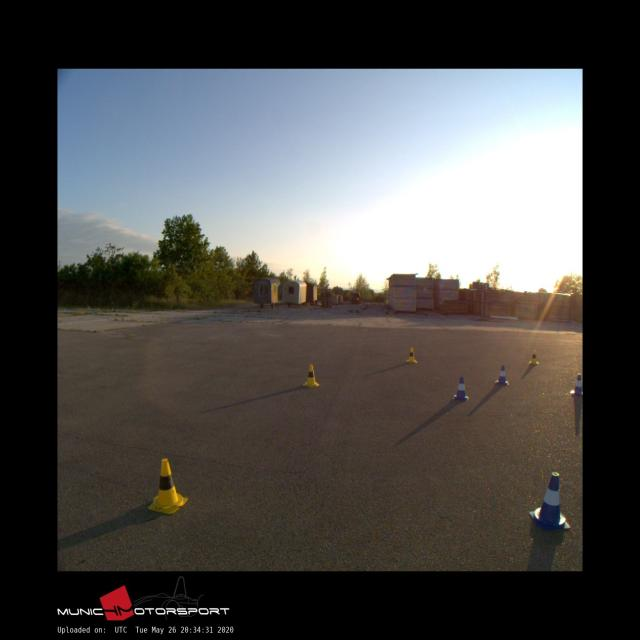blue_cone: (529, 472, 569, 529), (453, 376, 468, 400), (495, 365, 508, 385), (570, 374, 582, 395)
yellow_cone: (148, 458, 187, 514), (302, 364, 319, 387), (405, 347, 417, 363), (528, 349, 539, 364)
